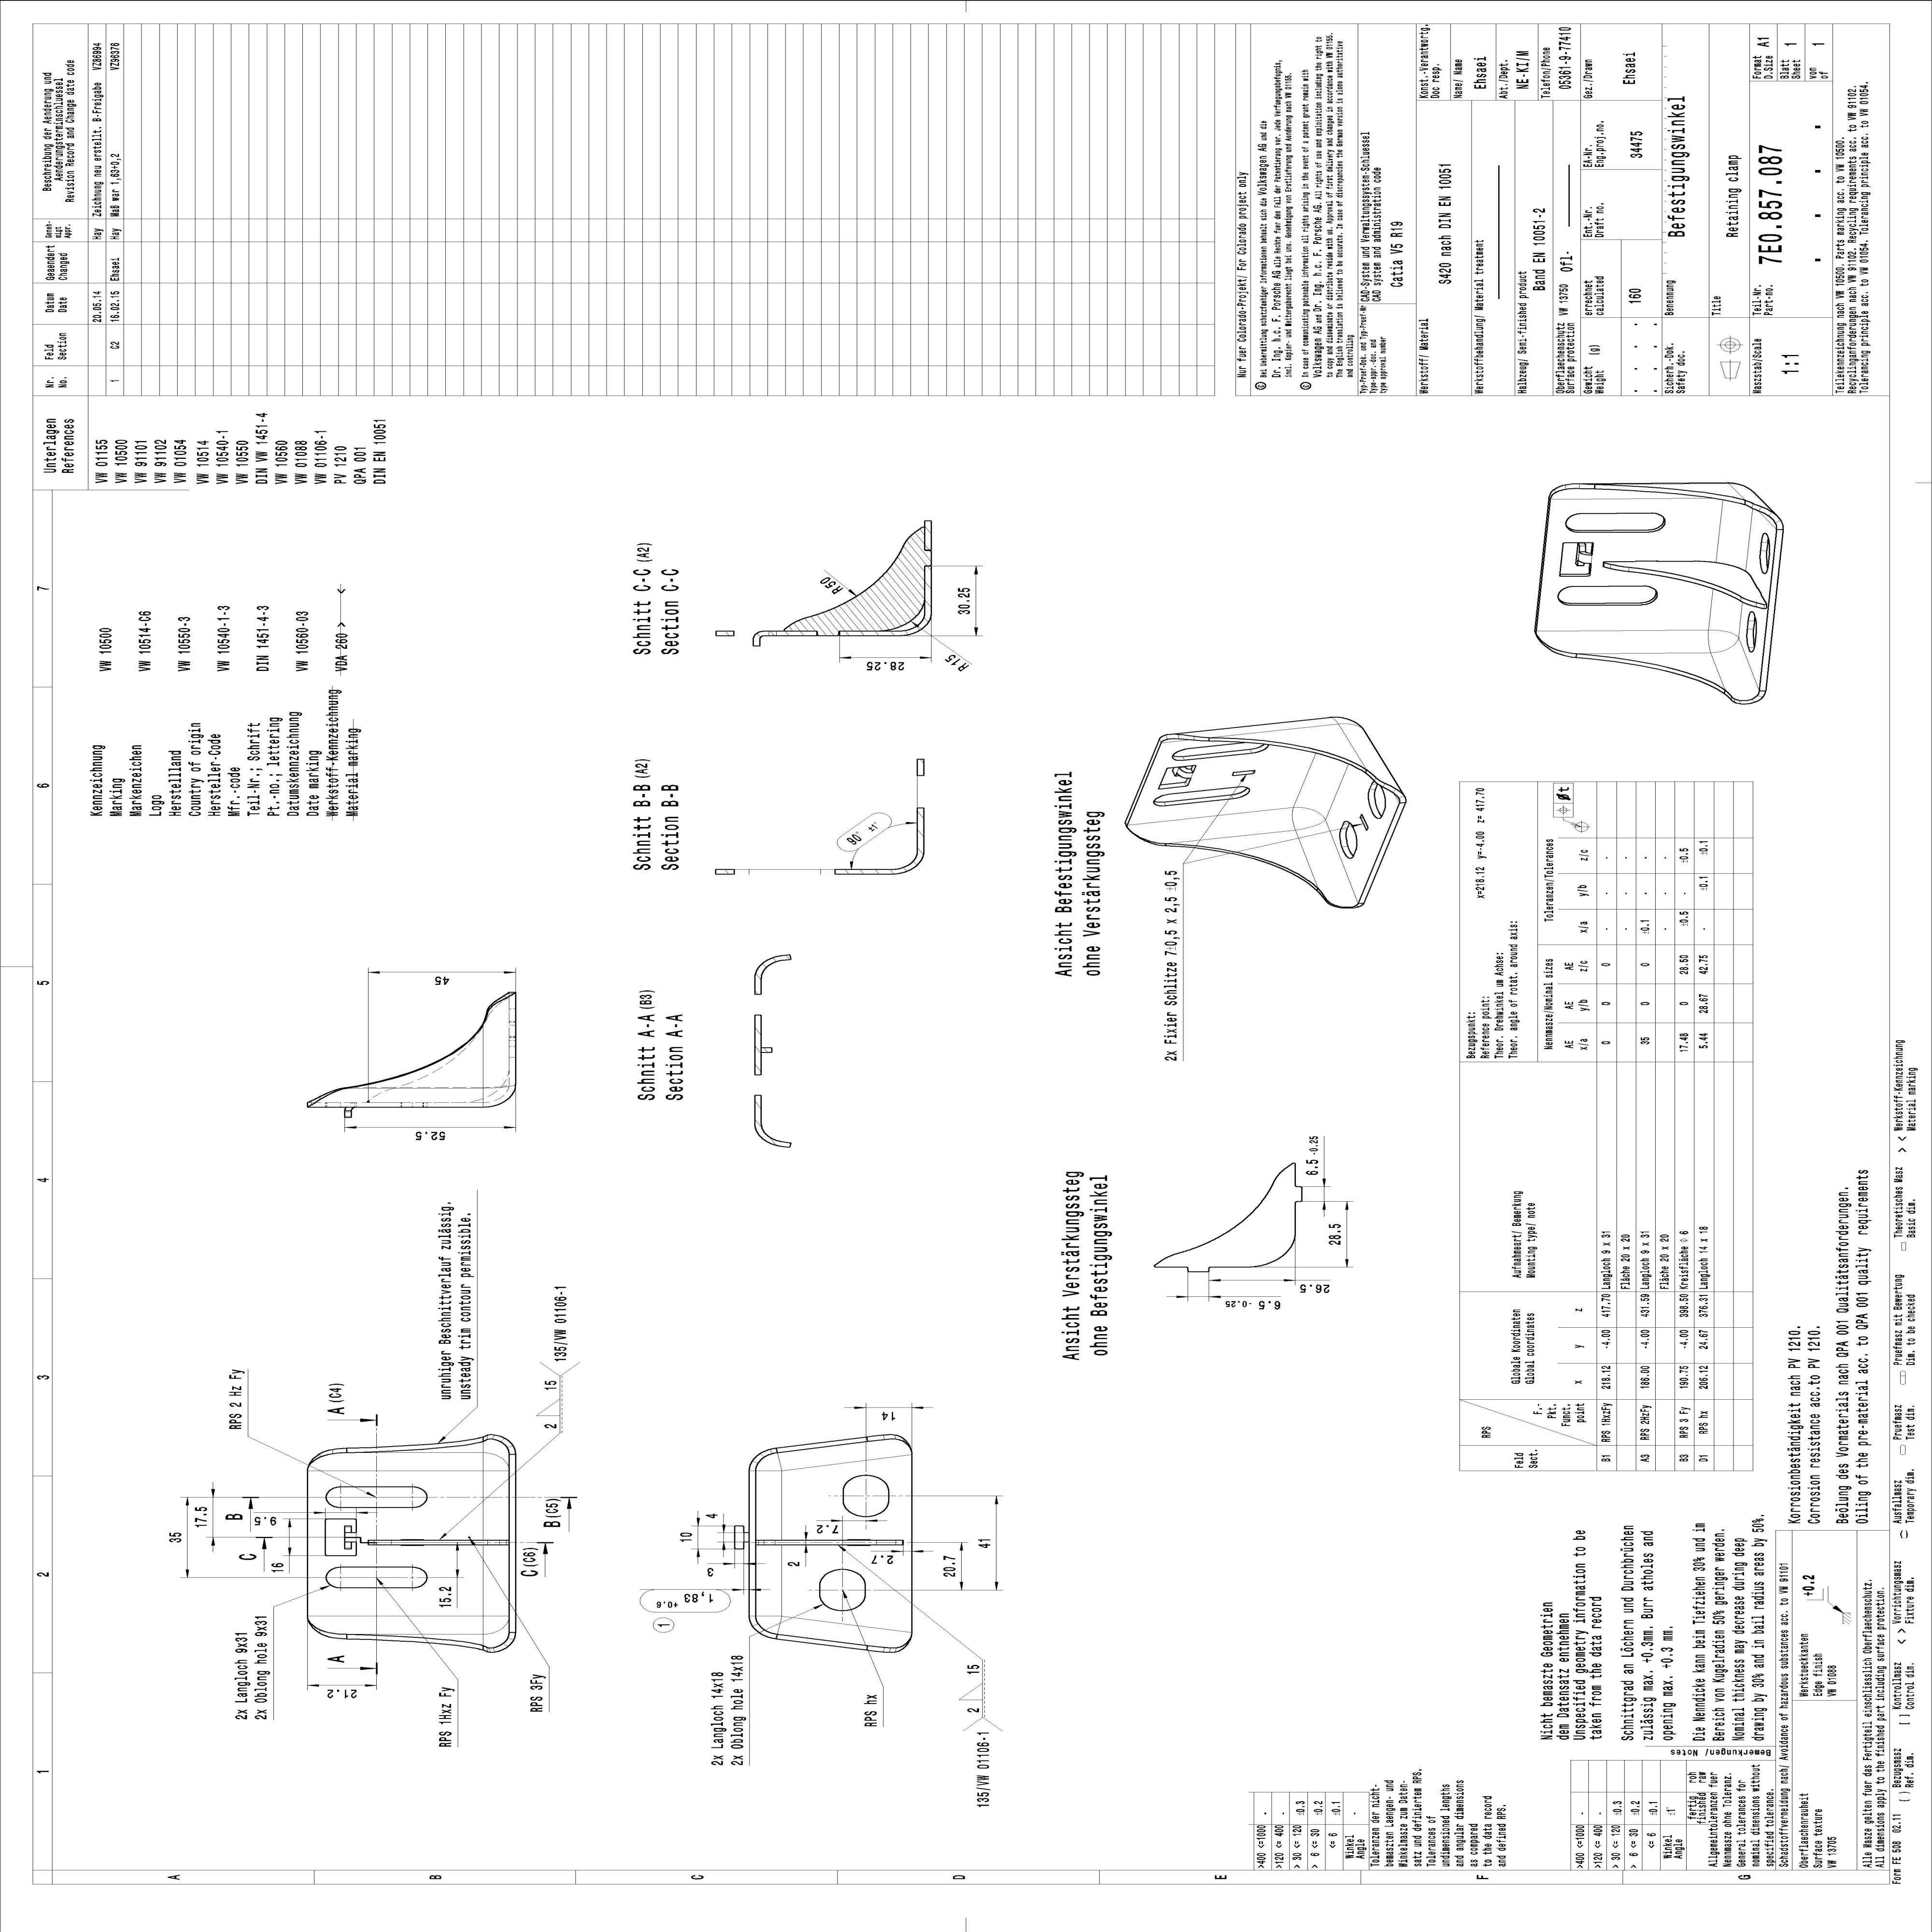BendingEdge: (1125, 805, 1297, 851), (1293, 816, 1362, 918), (1530, 628, 1713, 656), (1292, 748, 1352, 823), (304, 1614, 485, 1638), (1707, 635, 1762, 708), (304, 1451, 485, 1472), (1714, 497, 1755, 571), (481, 1470, 511, 1543), (1707, 586, 1746, 640), (481, 1543, 510, 1617)
BoxCorner: (1292, 805, 1329, 833), (1707, 625, 1741, 655), (479, 1614, 511, 1637), (481, 1451, 511, 1474), (754, 1612, 784, 1635), (754, 1453, 784, 1472)
InnerContour: (324, 1483, 430, 1511), (324, 1564, 428, 1591), (1152, 784, 1253, 809), (1555, 584, 1663, 607), (1171, 738, 1270, 763), (816, 1568, 869, 1614), (1564, 511, 1668, 534), (839, 1474, 890, 1518), (1357, 777, 1396, 821), (1332, 817, 1366, 860), (1746, 609, 1760, 655), (1759, 533, 1771, 575), (1230, 768, 1260, 778), (1355, 812, 1371, 832)
